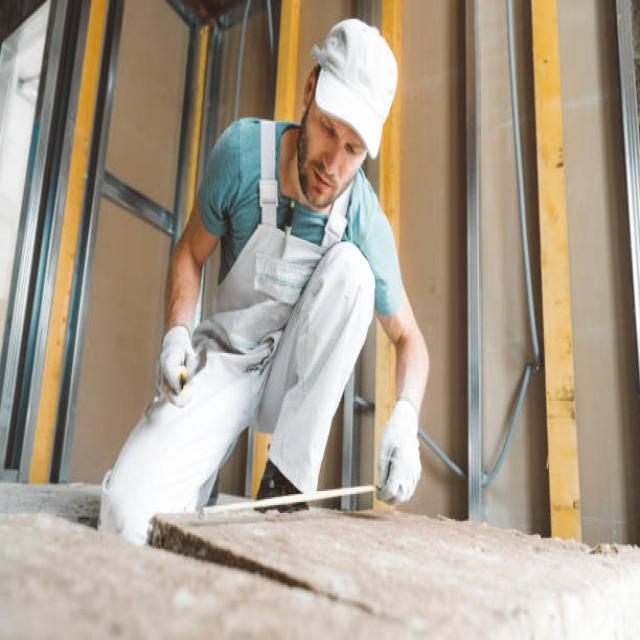gloves: (376, 395, 422, 505), (154, 325, 198, 406)
